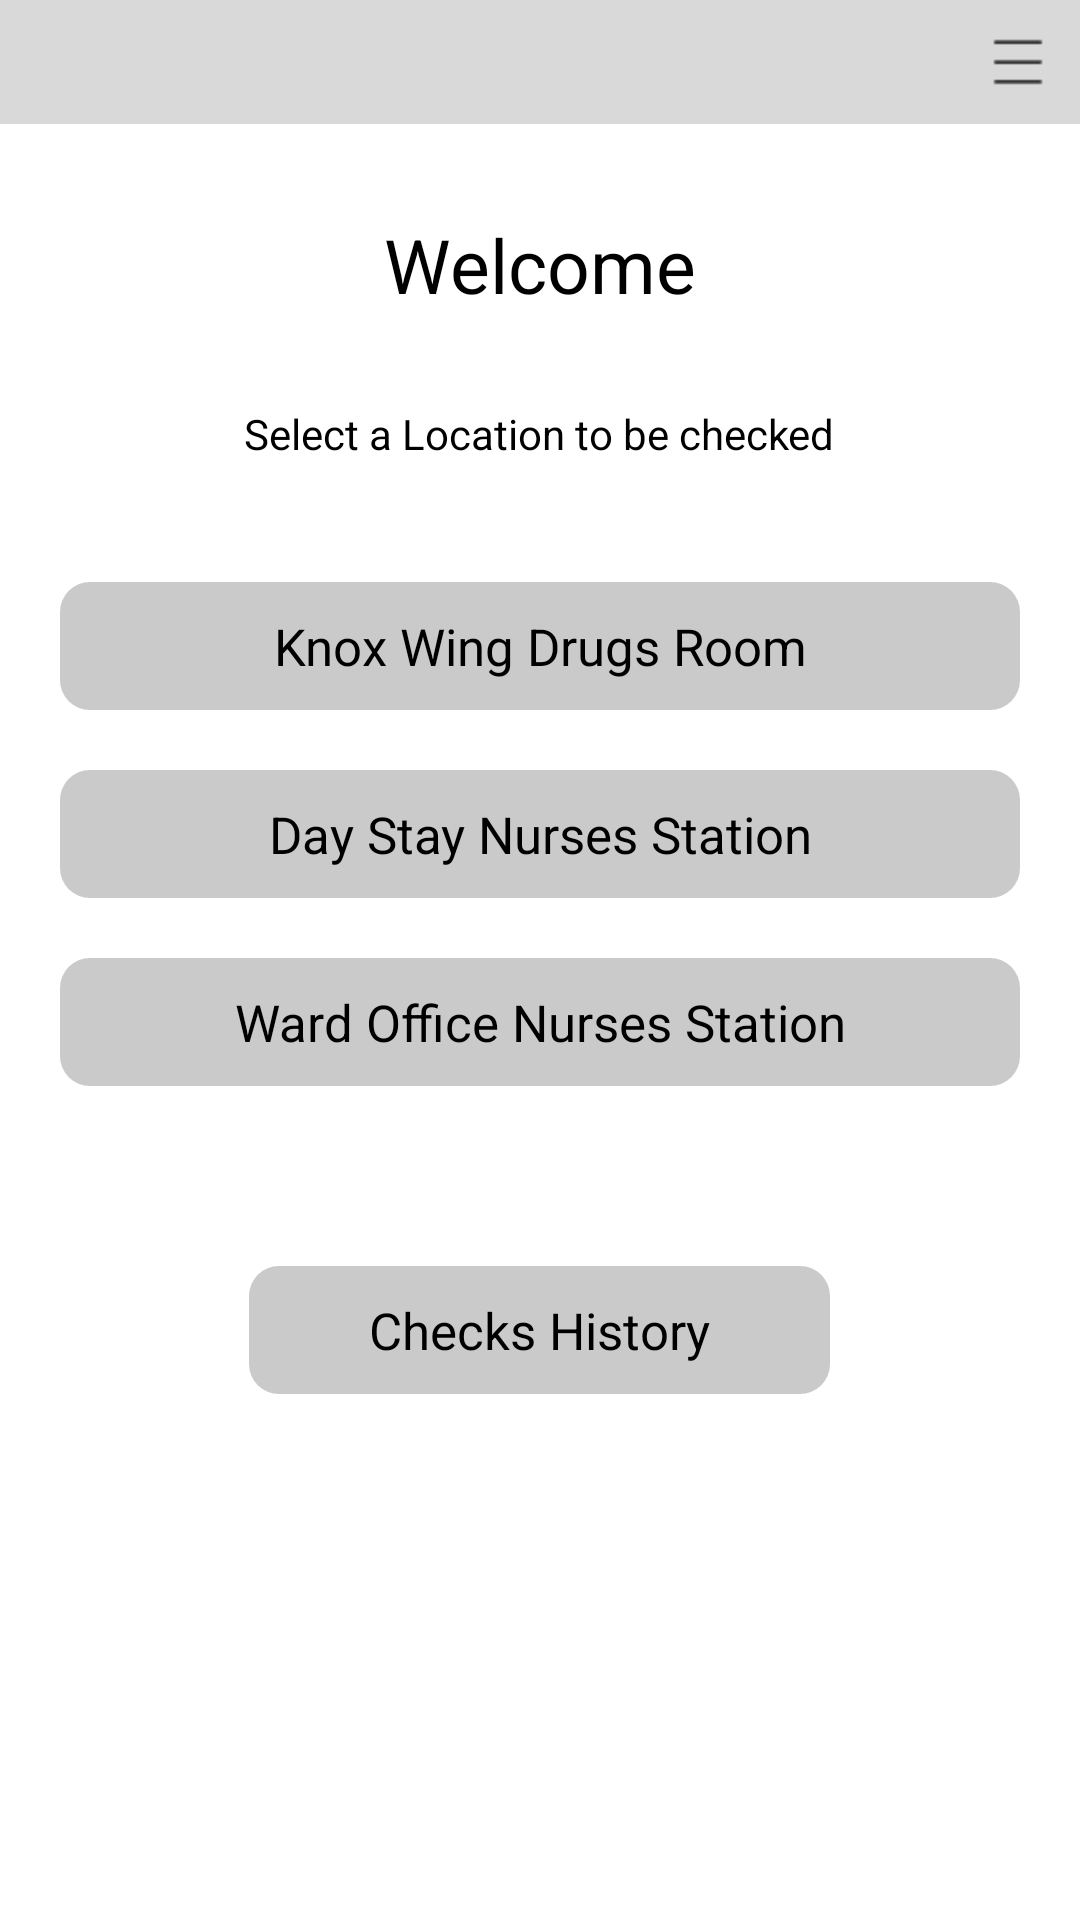

Icon click points for this 1080*1920 phone screenshot, format point (x, y):
menu: point (1018, 62)
